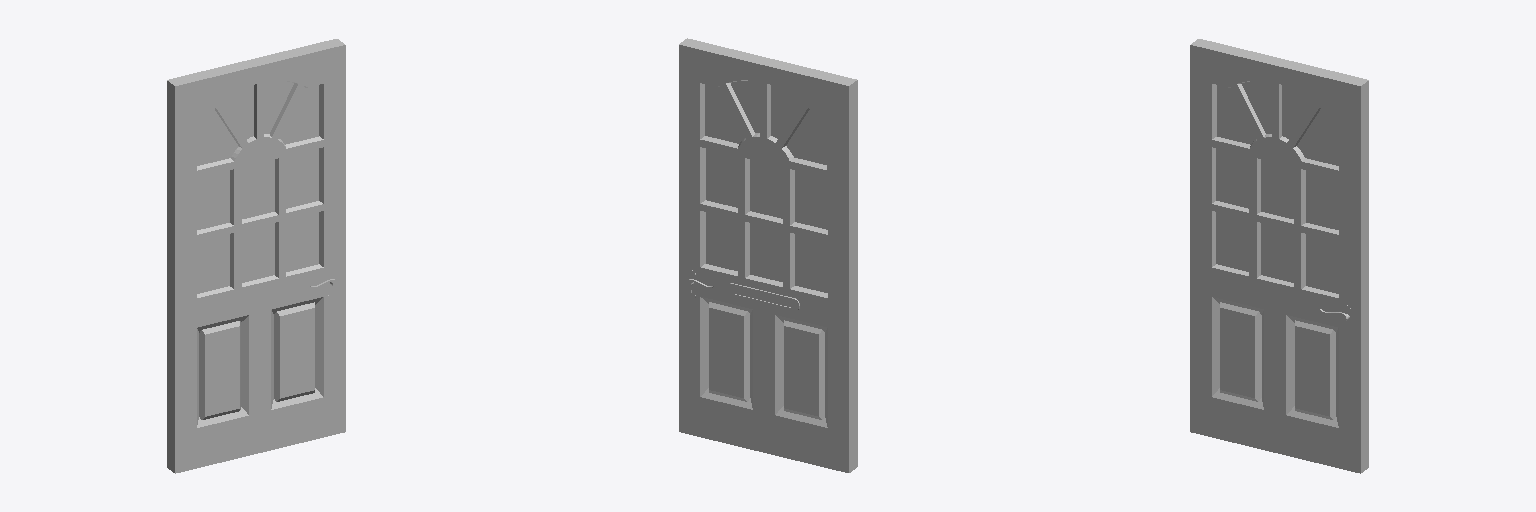
The model's file is door2_000001.obj.
3 views of the same model, side by side, from view 1: azimuth 30°, elevation 25°; view 2: azimuth 150°, elevation 25°; view 3: azimuth 330°, elevation 25° (orthographic).
Parts seen in each view (by area): view 1: Door.000_Door.004; view 2: Door.000_Door.004; view 3: Door.000_Door.004.
Boxes of the visible parts, box(x1,y1,x2,y2) form: Door.000_Door.004: box(167, 39, 345, 473); Door.000_Door.004: box(679, 38, 857, 472); Door.000_Door.004: box(1190, 39, 1368, 473).
Size of the model in its own units: 0.7394 by 1.6 by 0.1145.